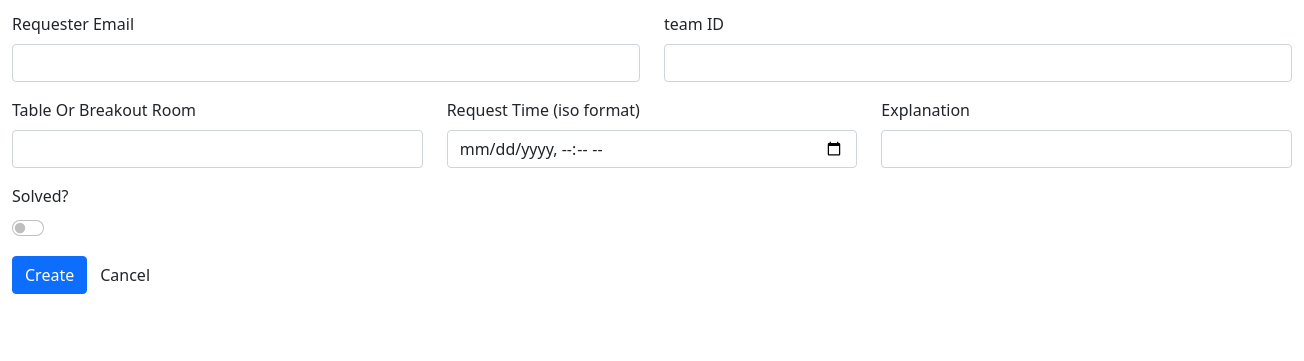
HelpRequestForm tests › Correct Error messsages on missing input
Click the button with test id "HelpRequestForm-submit". click: (50, 275)
box: 12,256 -> 87,294
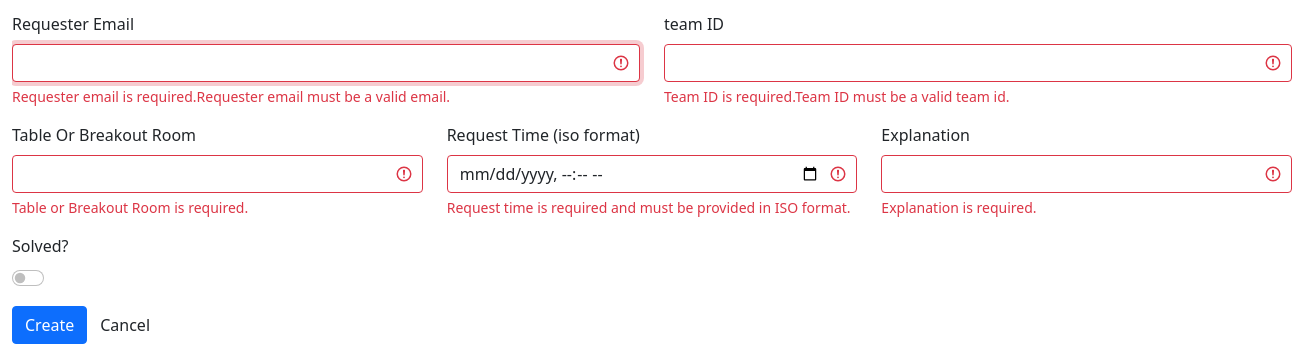
Check: the text "Requester email is required.Requester email must be a valid email." is shown, box 12,87 -> 450,106
Check: the text "Team ID is required.Team ID must be a valid team id." is shown, box 664,87 -> 1010,106
Check: the text "Table or Breakout Room is required." is shown, box 12,198 -> 248,217
